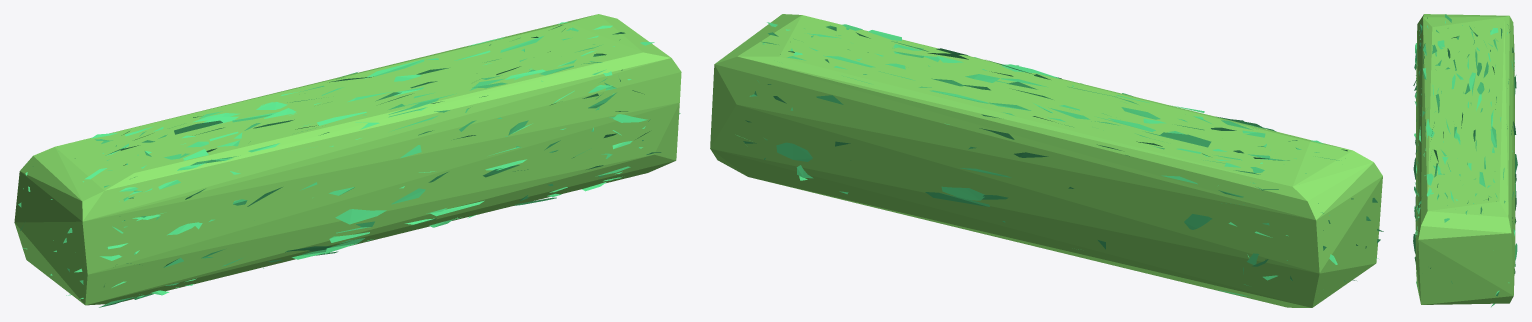
Rendered from semak low poly3 1.fbx.
3 views of the same model, side by side, from view 1: azimuth 30°, elevation 25°; view 2: azimuth 150°, elevation 25°; view 3: azimuth 270°, elevation 25° (orthographic). The views are drawn at different scales.
Parts seen in each view (by area): view 1: Cube.005; view 2: Cube.005; view 3: Cube.005.
Boxes of the visible parts, x1,y1,x2,y2 form: Cube.005: (14,14,681,307); Cube.005: (710,14,1383,307); Cube.005: (1413,14,1517,306).
Size of the model in its own units: 266 by 54.12 by 52.24.
